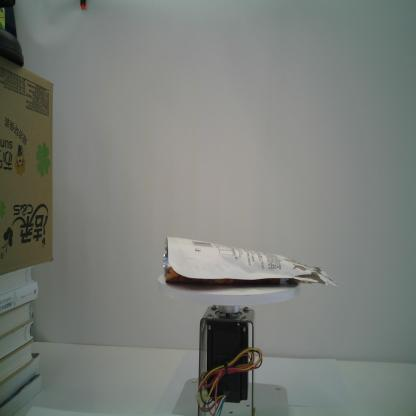Dried Fruit: (162, 235, 340, 288)
